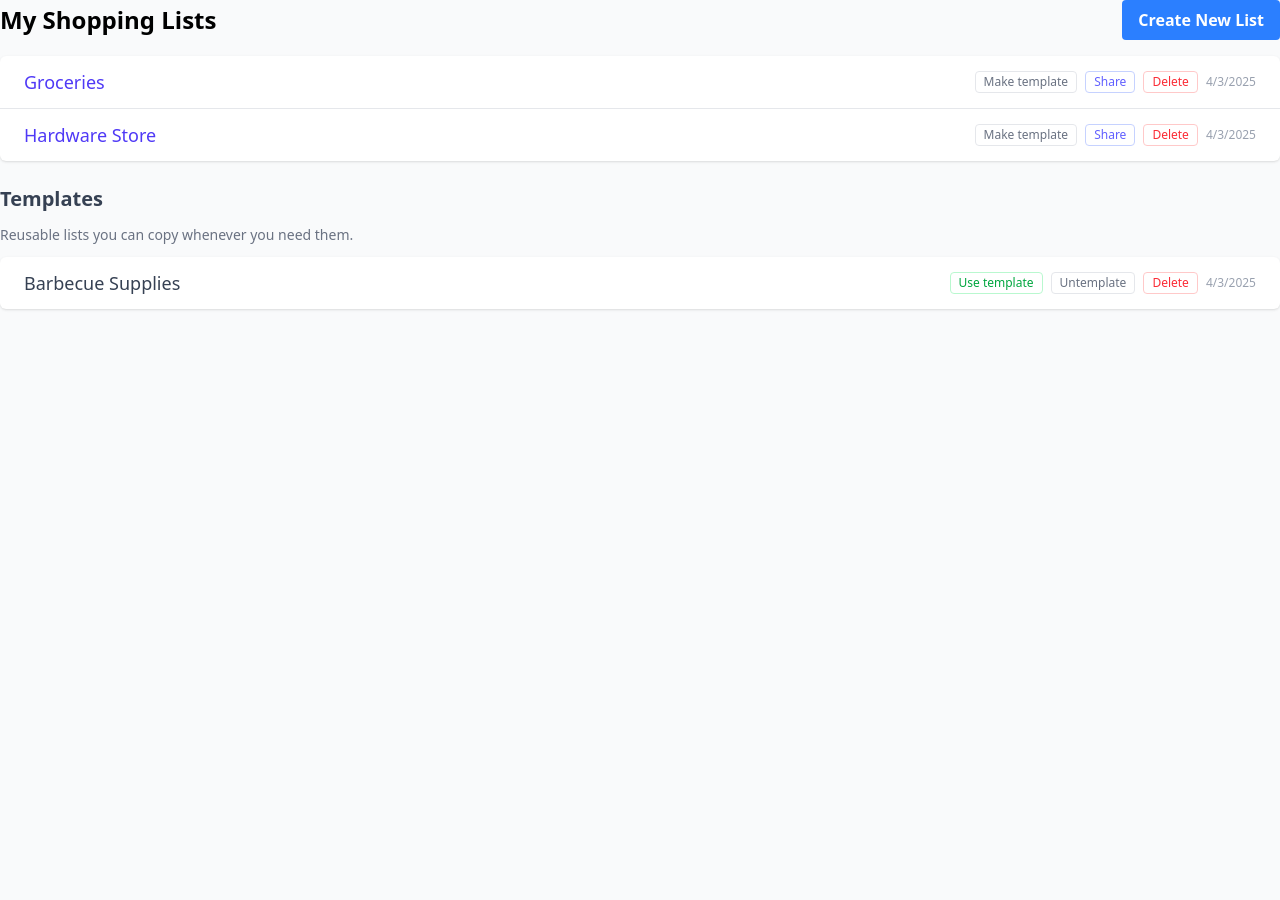
Test case: ShoppingListsPage Component › can switch to 'Add to existing list' tab in the Use template modal
This screenshot has width=1280, height=900.
Expected: the text "Barbecue Supplies" is shown, [24,269,180,297]
Step 1. Click the button "Use template" → (996, 283), box [950,272,1042,294]
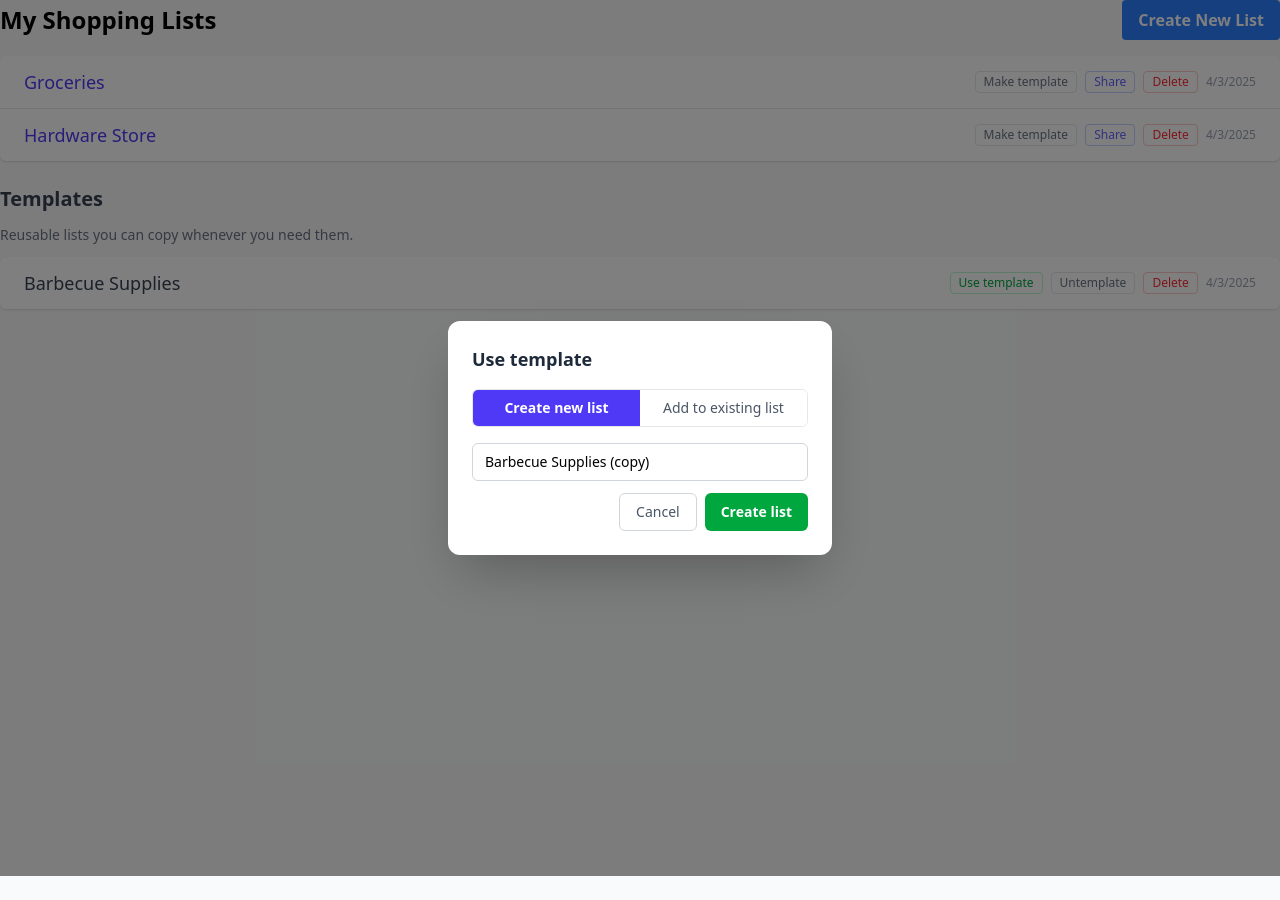
# Switch to "Add to existing list" tab
Step 2. Click the button "Add to existing list" → (724, 408), box [640,390,807,426]
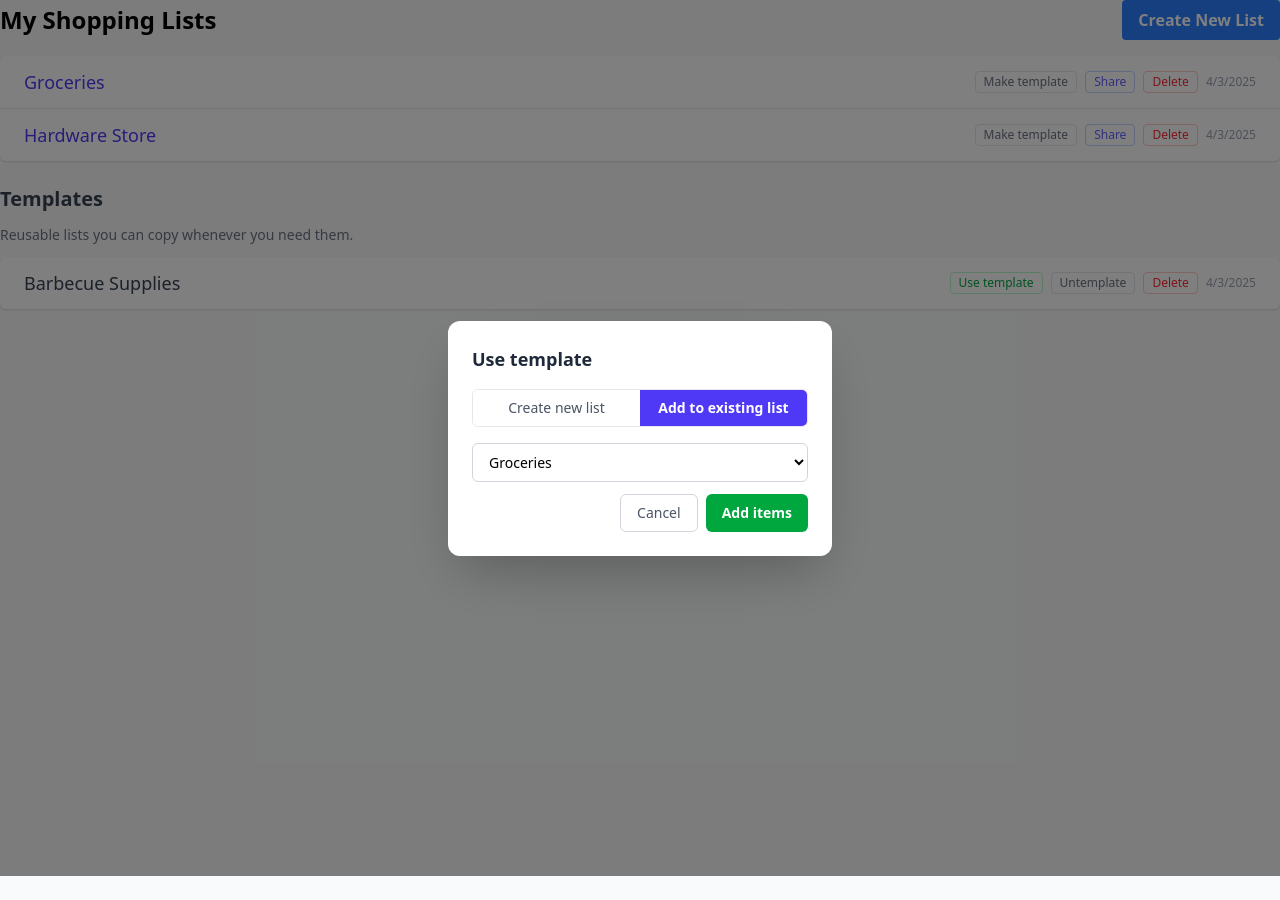
Expected: the dropdown is shown, [472,442,808,482]
